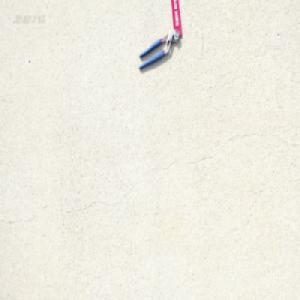Label: (170, 0, 182, 37)
Pliers: (137, 27, 179, 70)
